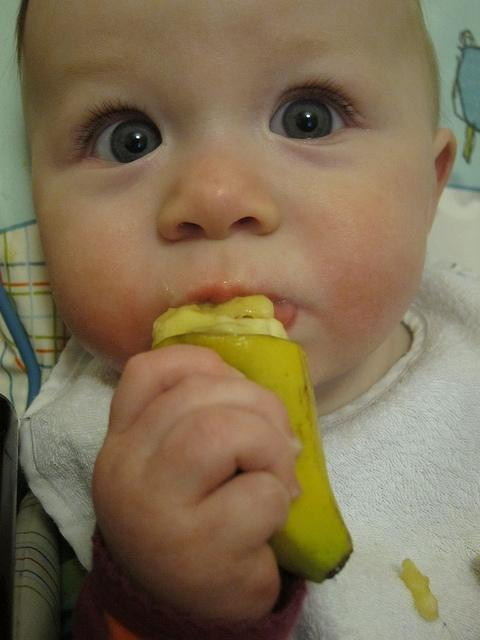banana: (149, 296, 353, 584), (400, 558, 440, 621)
